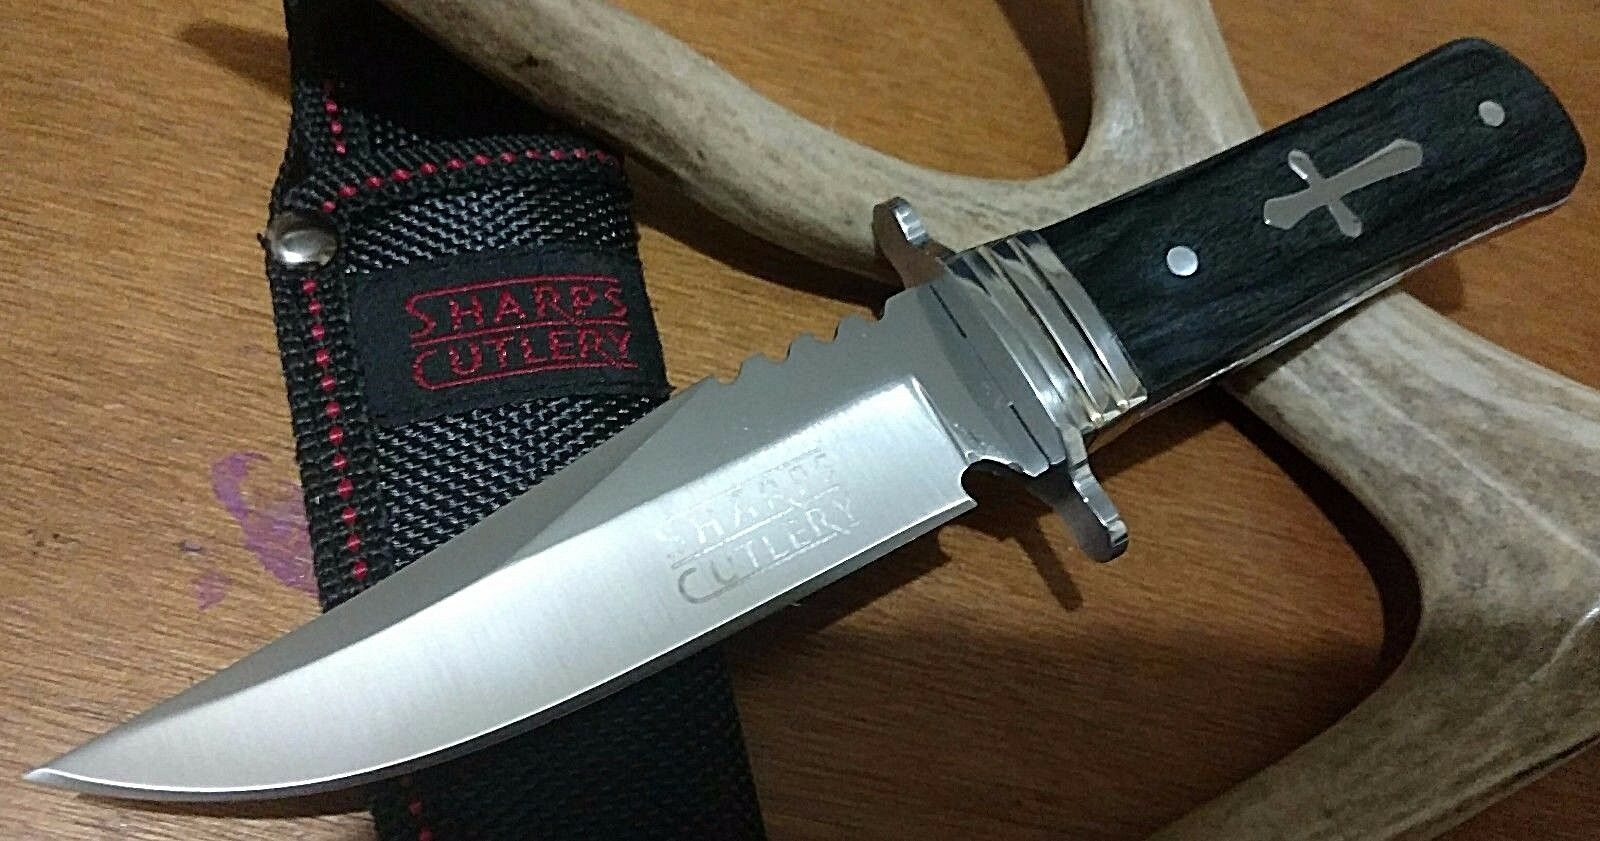knief: (34, 36, 1580, 808)
